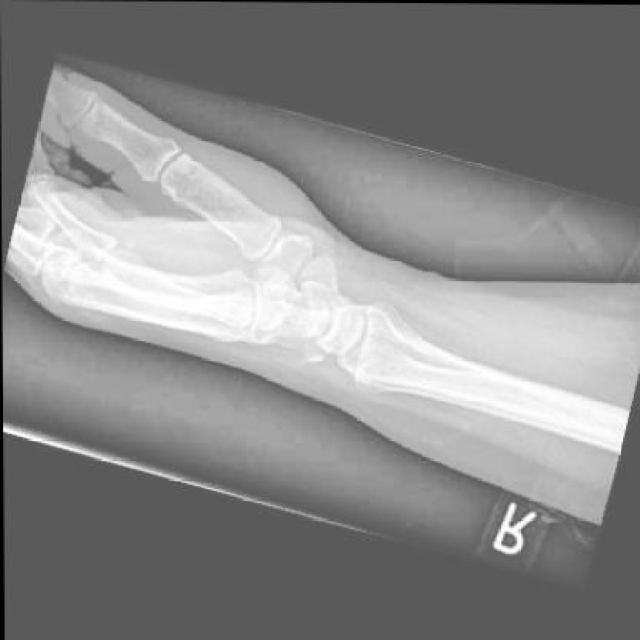Fracture: (299, 336, 336, 374)
